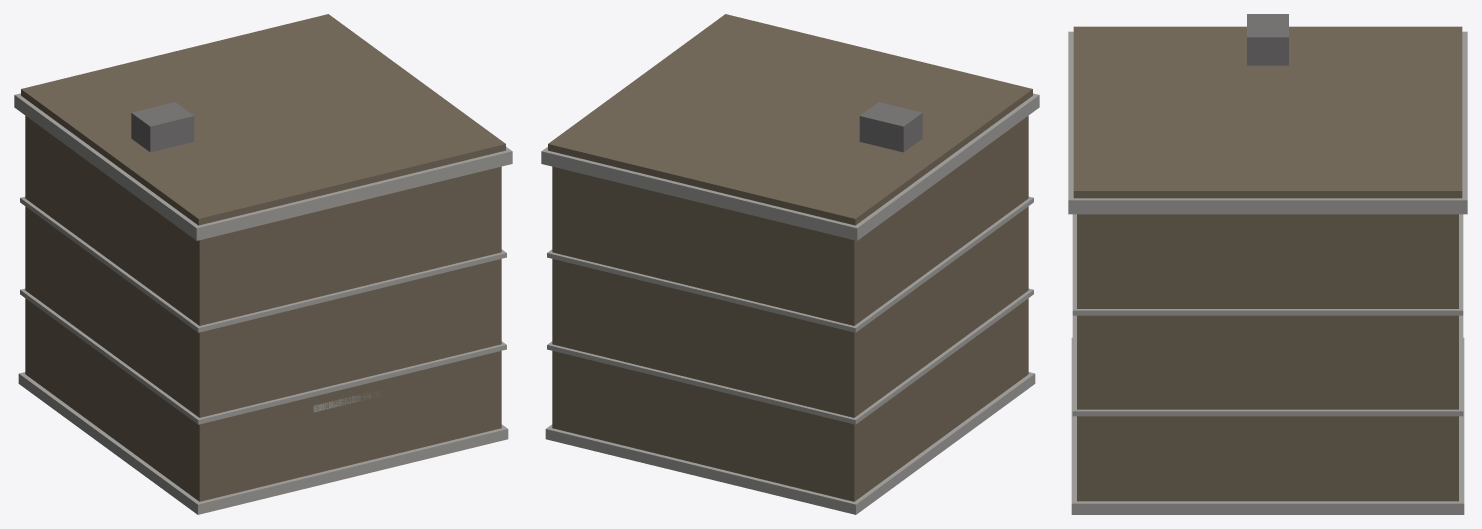
The model's file is b_brick_tan.glb.
3 views of the same model, side by side, from view 1: azimuth 30°, elevation 25°; view 2: azimuth 150°, elevation 25°; view 3: azimuth 270°, elevation 25° (orthographic). The views are drawn at different scales.
Parts seen in each view (by area): view 1: Building; view 2: Building; view 3: Building.
Part boxes in pixels (x1,y1,x2,y2): Building: (14, 14, 512, 514); Building: (541, 14, 1039, 514); Building: (1068, 14, 1467, 514).
Bounding box in the file's own units: 11.5 × 11.2 × 11.5.
5 materials, 2 textured.
